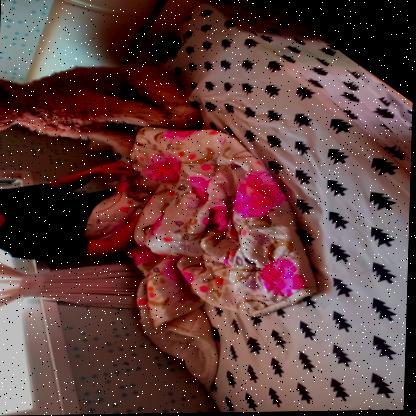streamer: (0, 160, 147, 261)
